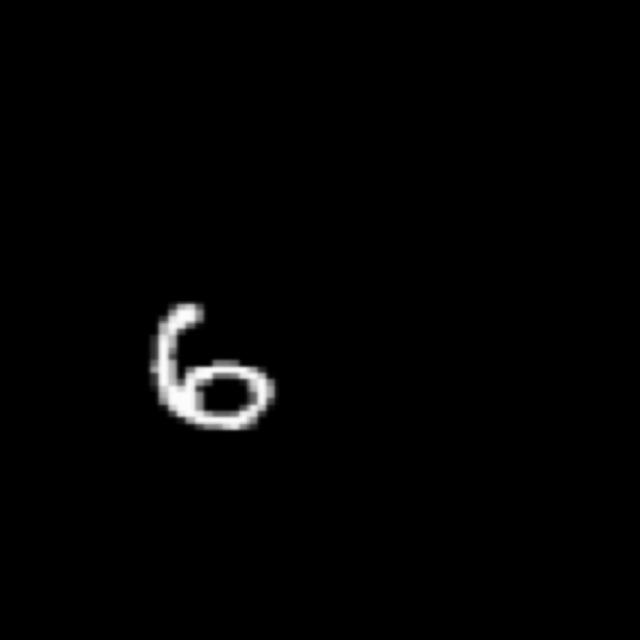six -6-: (140, 298, 286, 437)
